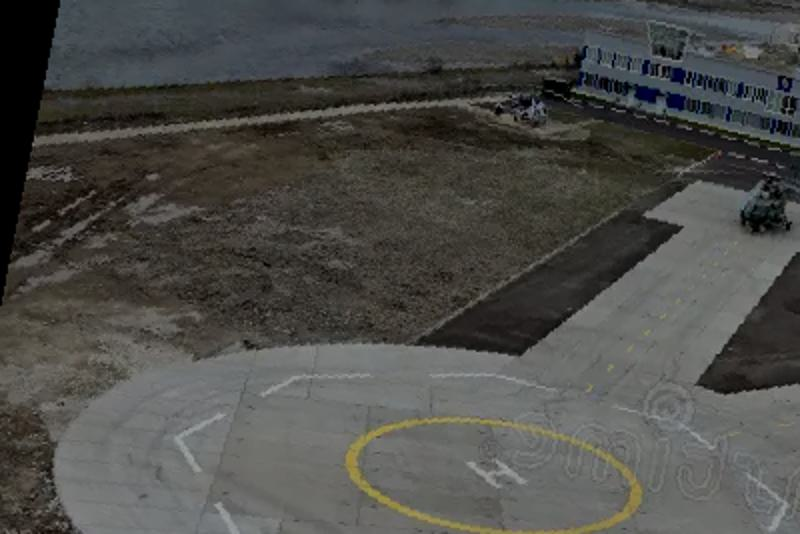Apron: (327, 407, 642, 534)
